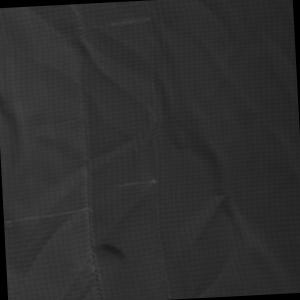Stain: (93, 240, 132, 264)
Wrinkle: (123, 1, 300, 300), (30, 4, 110, 88), (1, 86, 30, 184)
